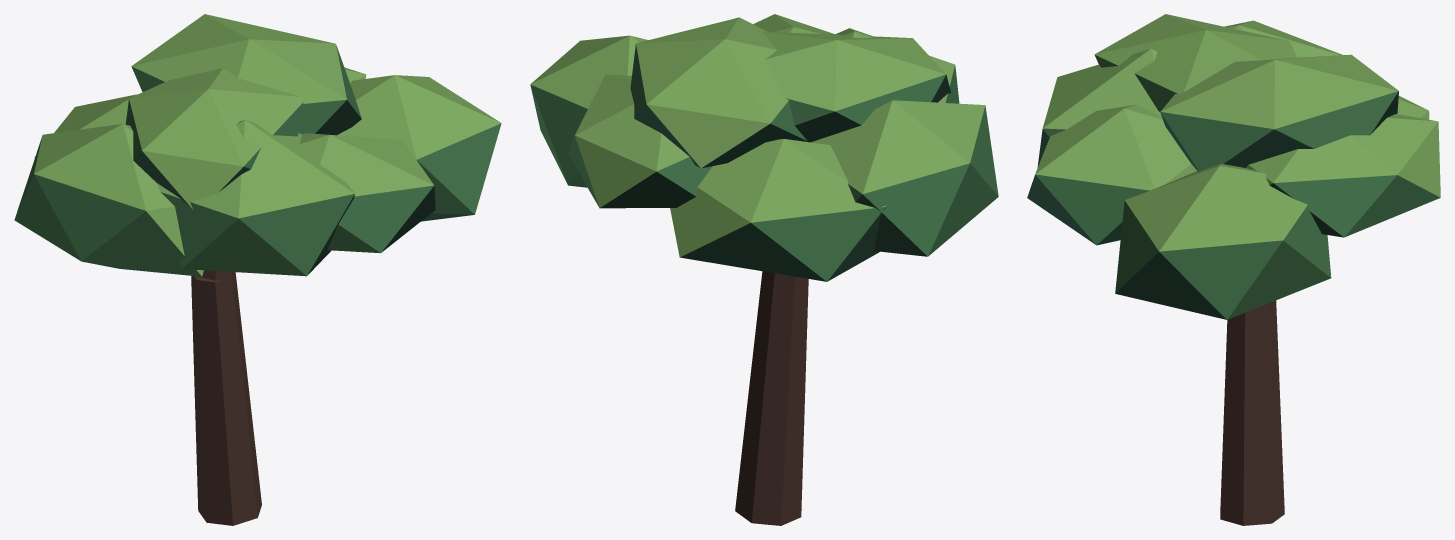
File: tree_acacia.glb
The picture shows the model from 3 angles, left to right: view 1: azimuth 30°, elevation 25°; view 2: azimuth 150°, elevation 25°; view 3: azimuth 270°, elevation 25°; orthographic projection. The views are drawn at different scales.
Parts seen in each view (by area): view 1: tree_acacia; view 2: tree_acacia; view 3: tree_acacia.
Part boxes in pixels (x1,y1,x2,y2): tree_acacia: (14,14,501,525); tree_acacia: (530,14,998,525); tree_acacia: (1027,14,1440,525).
Bounding box in the file's own units: 8.24 × 8.45 × 6.71.
